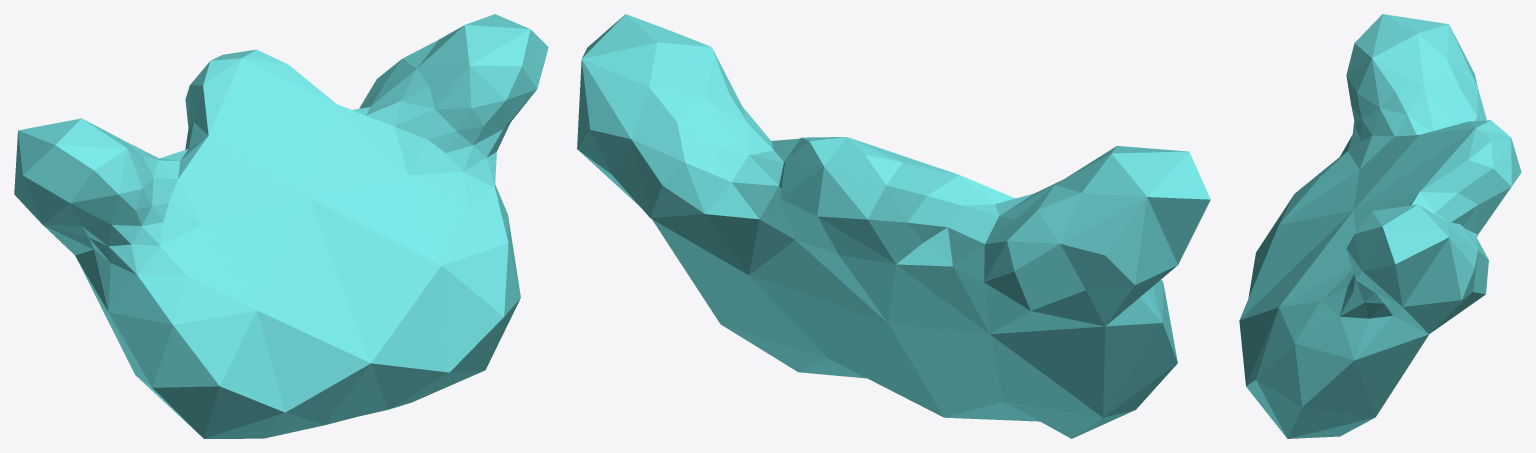
Rendered from Better uncentered turtle white blood cell.fbx.
The picture shows the model from 3 angles, left to right: view 1: azimuth 30°, elevation 25°; view 2: azimuth 150°, elevation 25°; view 3: azimuth 270°, elevation 25°; orthographic projection. The views are drawn at different scales.
Parts seen in each view (by area): view 1: Sea_Turtle_White_Blood_Cell:Mesh; view 2: Sea_Turtle_White_Blood_Cell:Mesh; view 3: Sea_Turtle_White_Blood_Cell:Mesh.
Boxes of the visible parts, x1,y1,x2,y2 form: Sea_Turtle_White_Blood_Cell:Mesh: (14, 14, 548, 438); Sea_Turtle_White_Blood_Cell:Mesh: (577, 14, 1210, 438); Sea_Turtle_White_Blood_Cell:Mesh: (1239, 14, 1521, 438).
Bounding box in the file's own units: 6.15 × 3.43 × 3.12.
